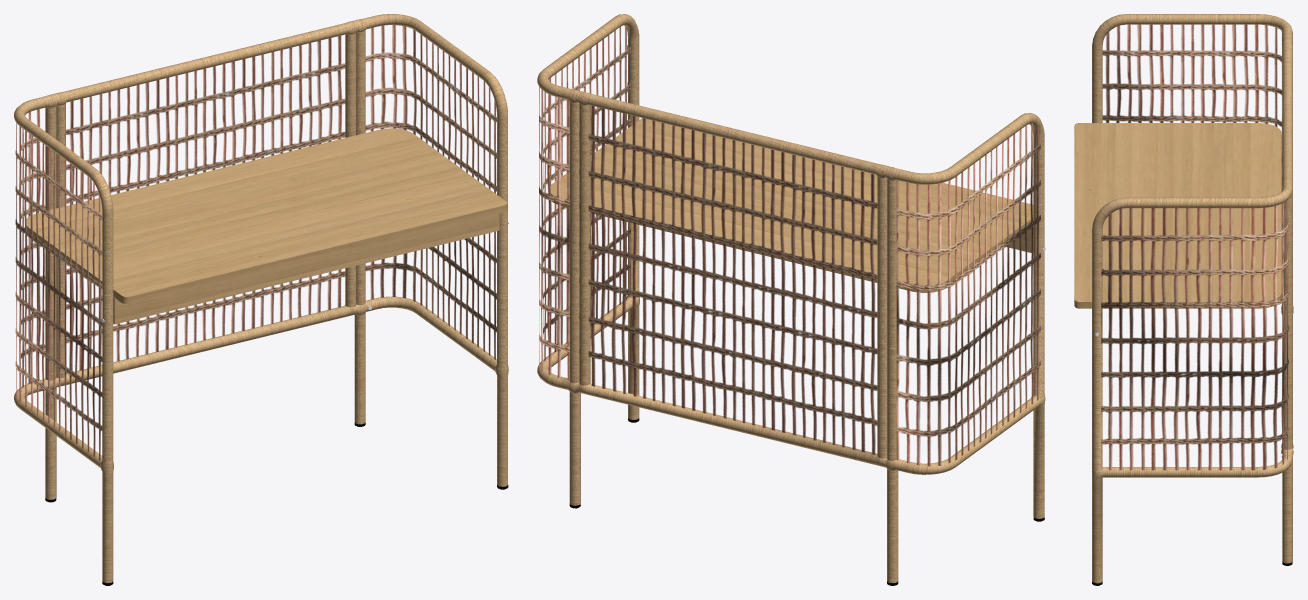
3 renders of one model, left to right at view 1: azimuth 30°, elevation 25°; view 2: azimuth 150°, elevation 25°; view 3: azimuth 270°, elevation 25°, orthographic. The views are drawn at different scales.
Visible parts, largest first — view 1: 90574107_desk:1.001, 90574107_desk:3.001; view 2: 90574107_desk:3.001, 90574107_desk:1.001; view 3: 90574107_desk:1.001, 90574107_desk:3.001.
Boxes of the visible parts, bbox=[...] form: 90574107_desk:1.001: bbox=[14, 14, 508, 585]; 90574107_desk:3.001: bbox=[15, 25, 496, 460]; 90574107_desk:3.001: bbox=[539, 26, 1040, 466]; 90574107_desk:1.001: bbox=[537, 14, 1045, 585]; 90574107_desk:1.001: bbox=[1074, 14, 1293, 585]; 90574107_desk:3.001: bbox=[1101, 24, 1288, 470].
Bounding box in the file's own units: 1.1 × 1.05 × 0.539.
2 materials, 2 textured.
